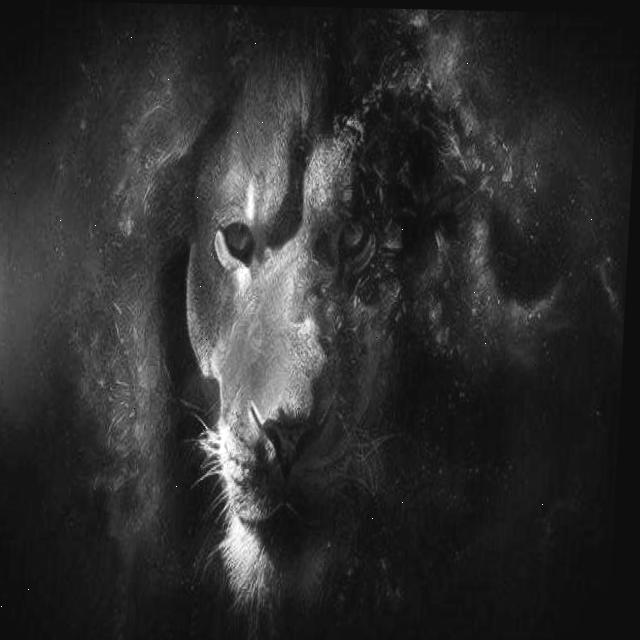Lion: (136, 13, 530, 635)
